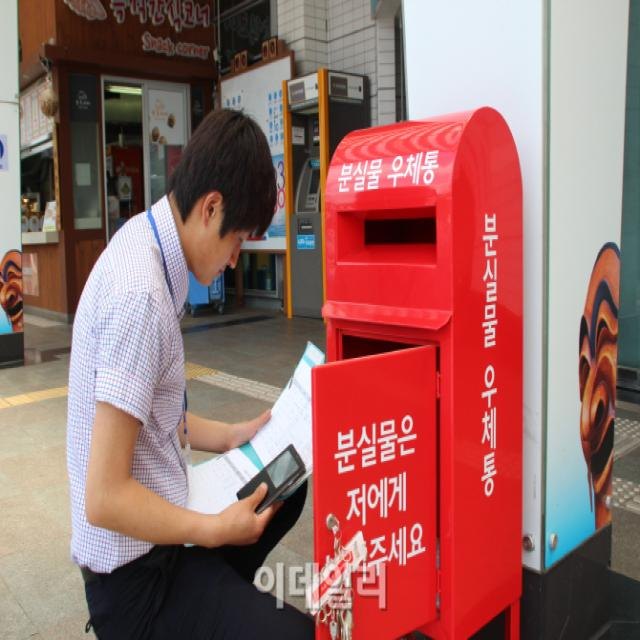Post Box: (310, 103, 525, 640)
